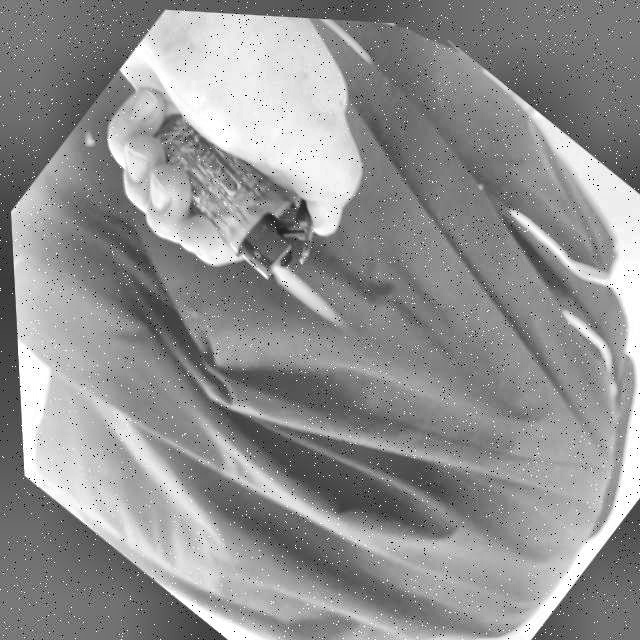Fire: (263, 257, 344, 327)
